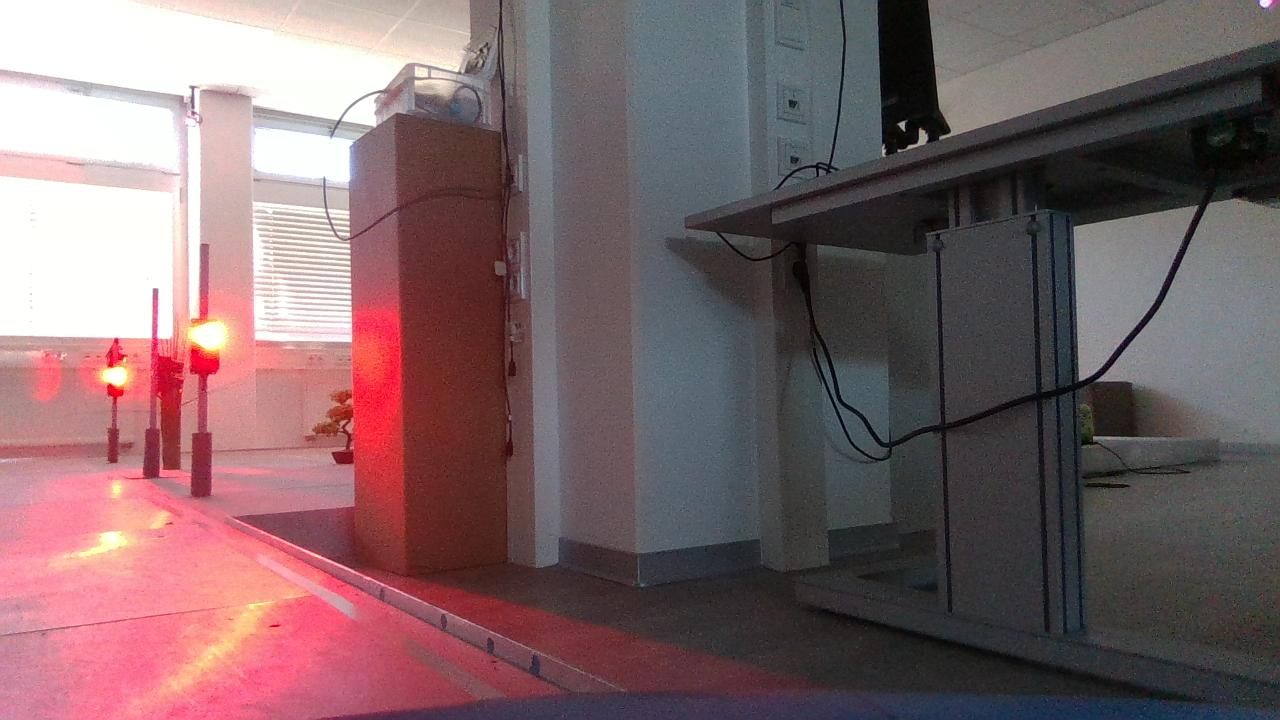traffic_light_red: (180, 312, 237, 391)
